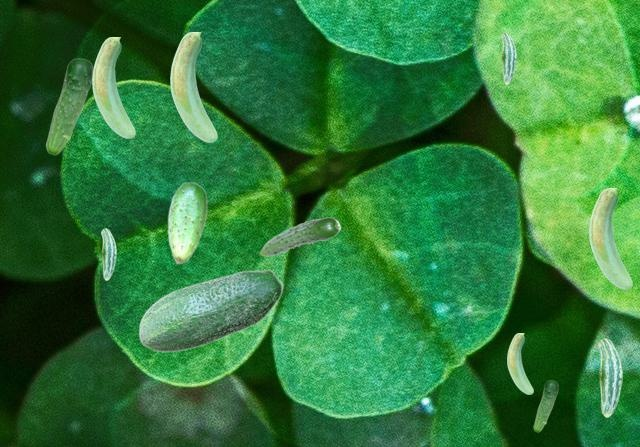cucumber: (138, 269, 283, 351), (170, 32, 216, 141), (45, 58, 92, 154), (92, 37, 134, 137), (589, 188, 631, 288), (167, 181, 206, 263), (259, 217, 340, 255), (598, 338, 621, 416), (507, 333, 532, 393), (533, 380, 557, 431), (501, 32, 515, 83), (101, 228, 115, 279)
